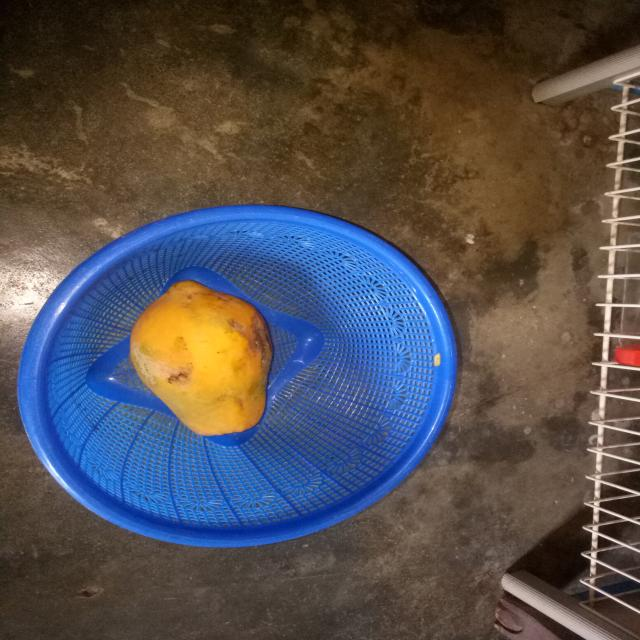Pepaya rippen: (127, 282, 274, 440)
